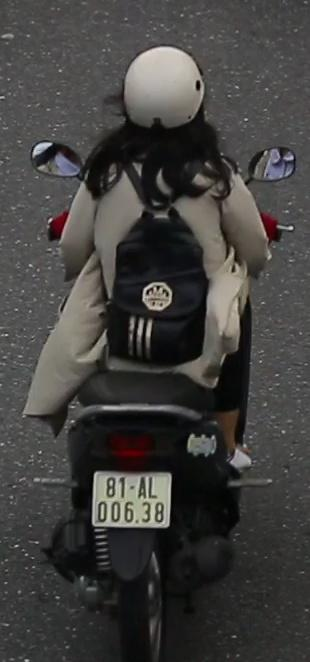LP: (89, 457, 175, 539)
helmet: (95, 37, 230, 195)
